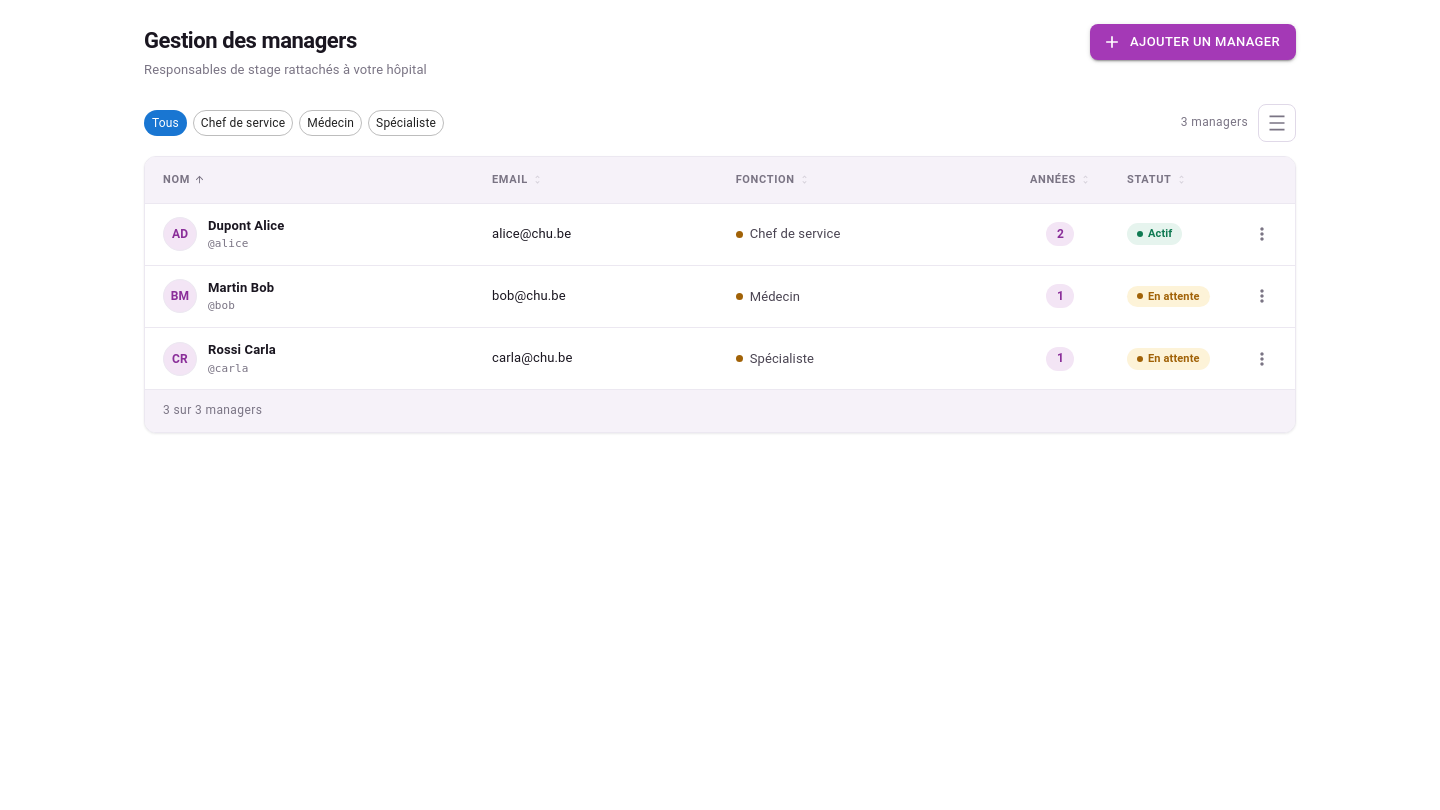
Test case: HospitalAdminManagersPage › 'Ajouter à une année' modal shows 'Déjà attribué' for assigned years
Click the text "Dupont Alice". click: [246, 226]
box: x1=208 y1=216 x2=284 y2=235
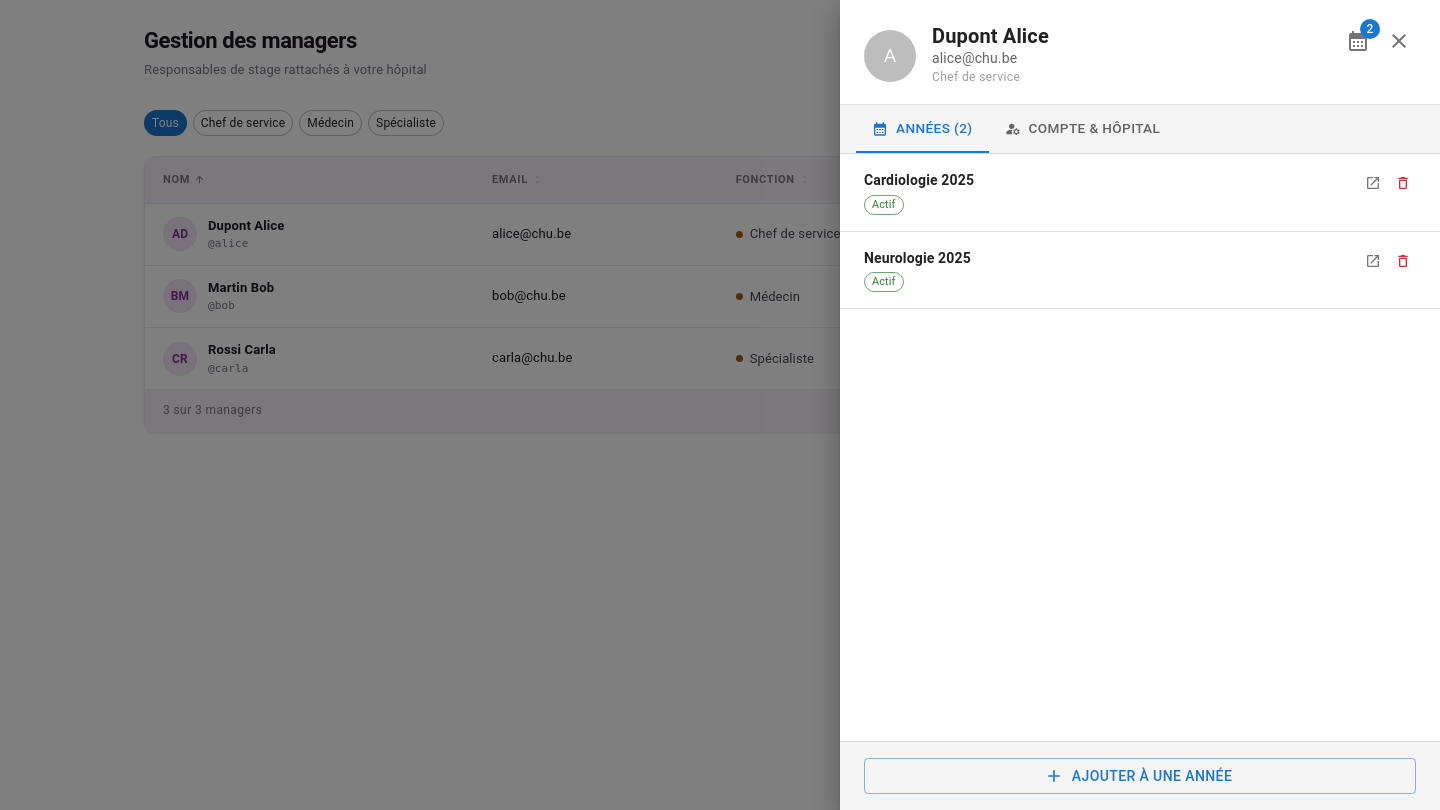
Expected: the button "Ajouter à une année" is shown
Click the button "Ajouter à une année". click: [1140, 776]
box: x1=864 y1=758 x2=1416 y2=794
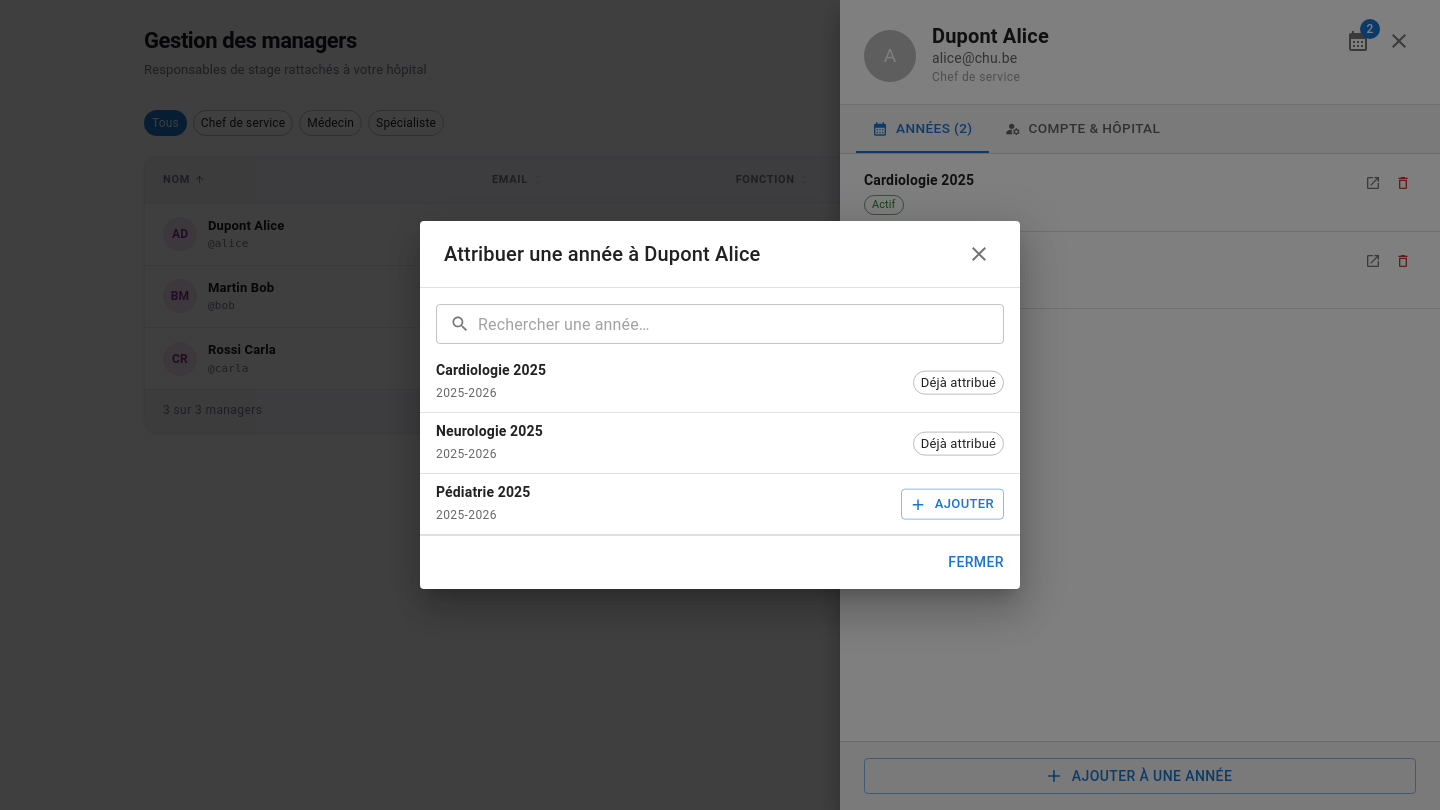
Expected: the heading "Attribuer une année à Dupont Alice" is shown, x1=444 y1=237 x2=996 y2=271
Expected: the text "Déjà attribué" is shown 2 times, x1=921 y1=375 x2=996 y2=390; x1=921 y1=436 x2=996 y2=451
Expected: the number of buttons "Ajouter" is 1, x1=901 y1=489 x2=1004 y2=520
